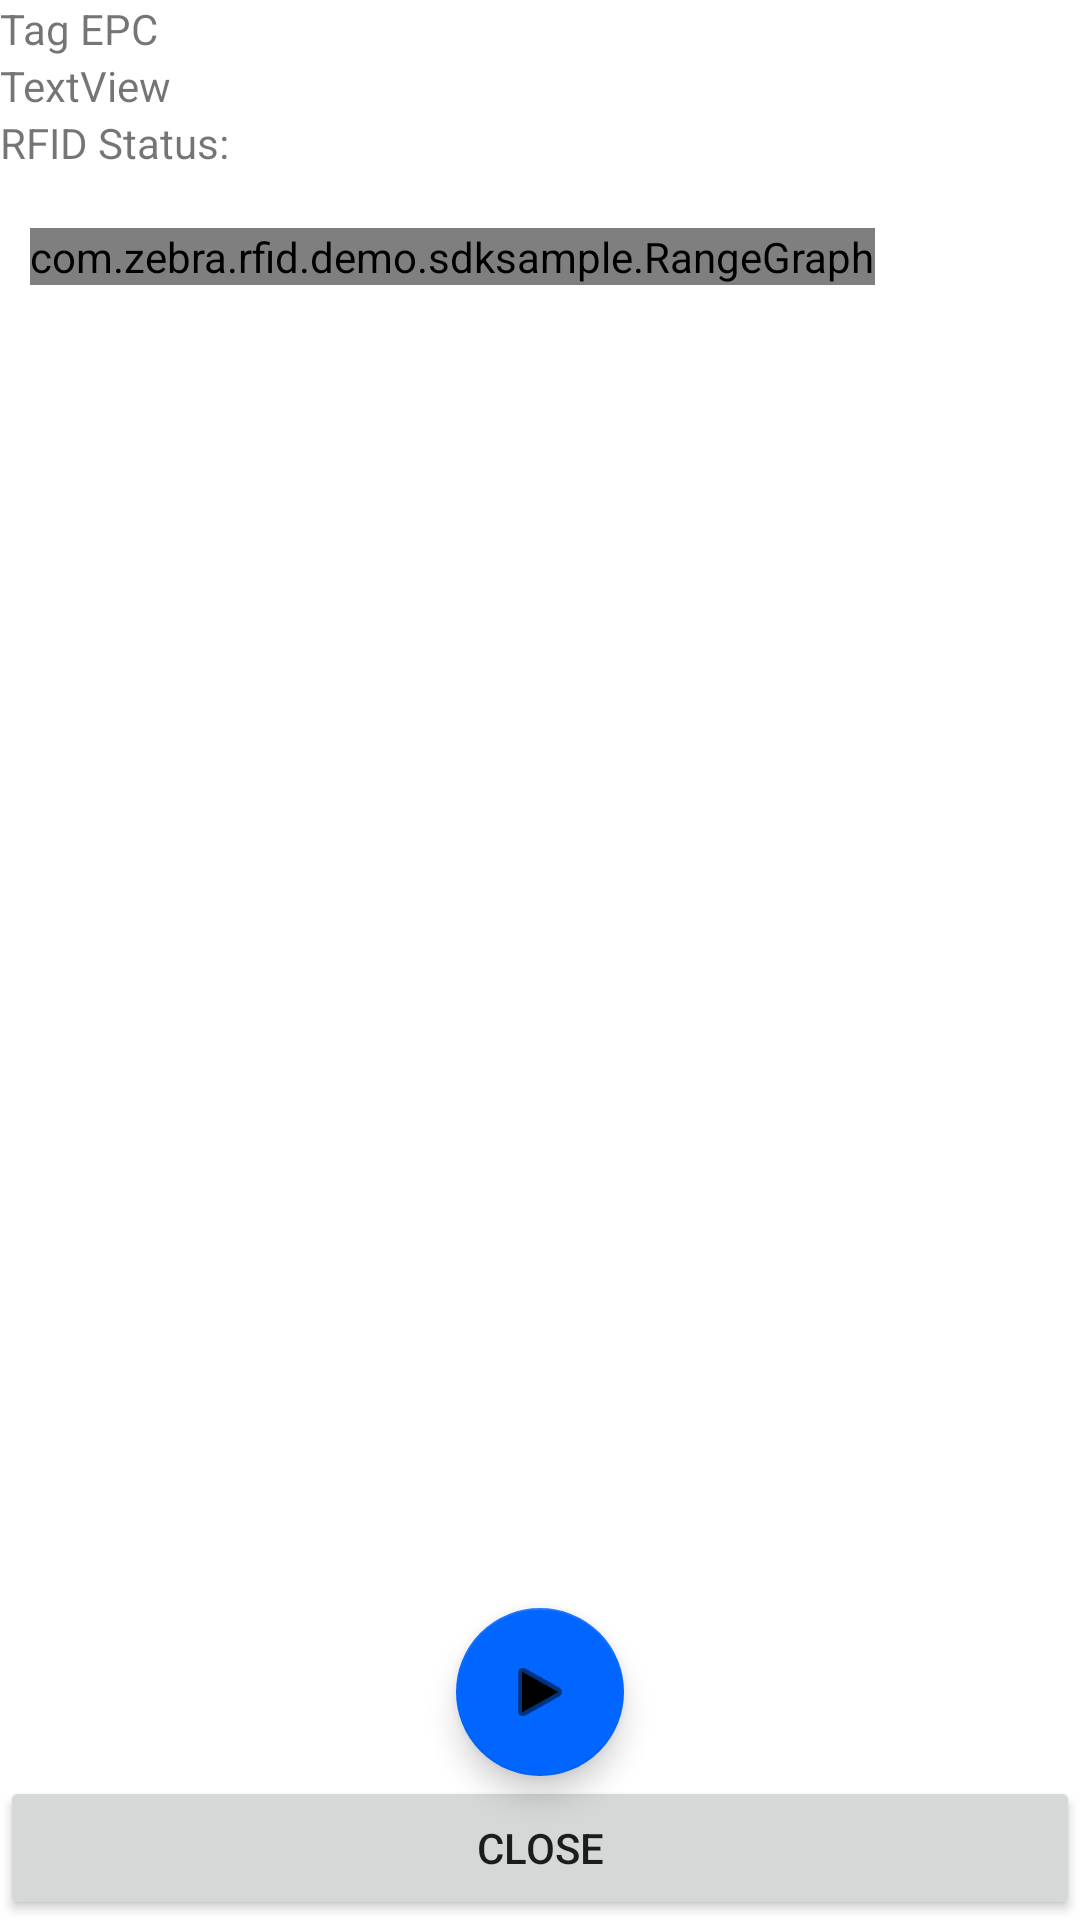

Icon click points for this 1080w x 1920h phone screenshot, format point (x, y):
play: point (540, 1692)
